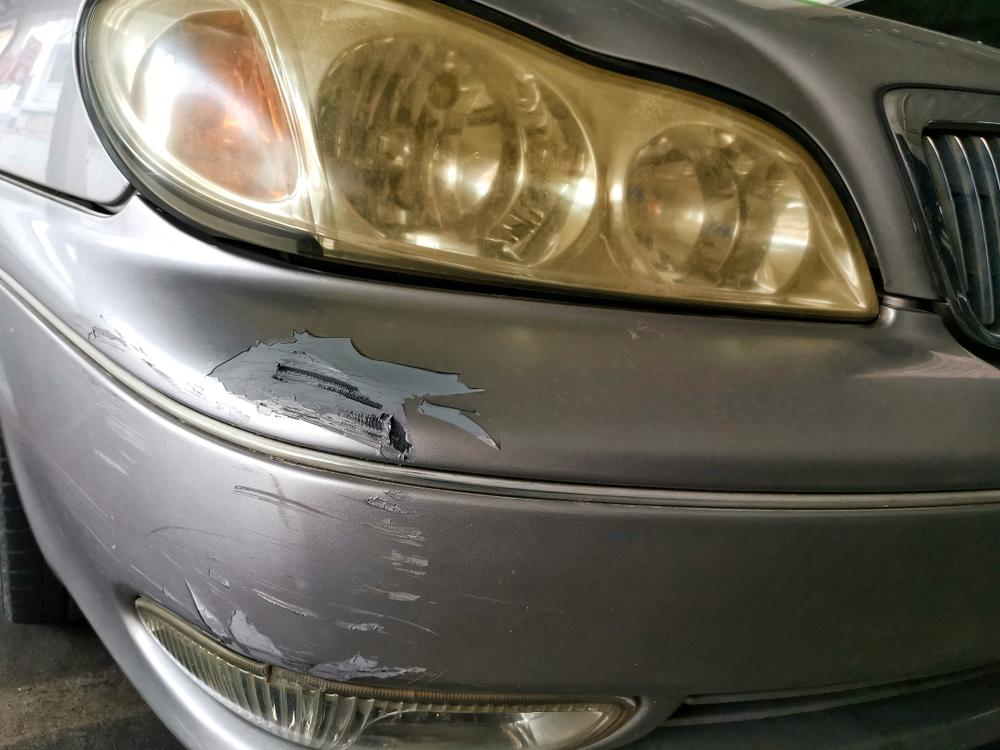scratch: (72, 307, 513, 683)
